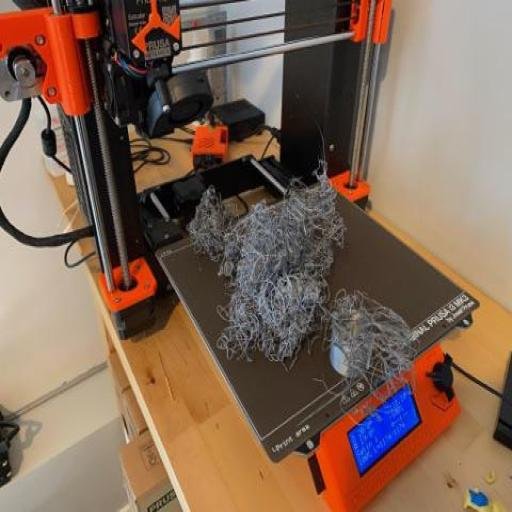spaghetti: (187, 169, 384, 393)
